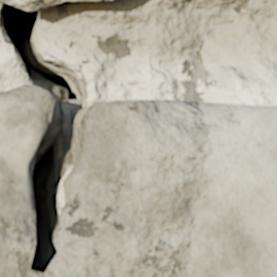brick: (1, 0, 97, 10)
broken_brick: (0, 83, 276, 276)
crack: (0, 2, 91, 274)
